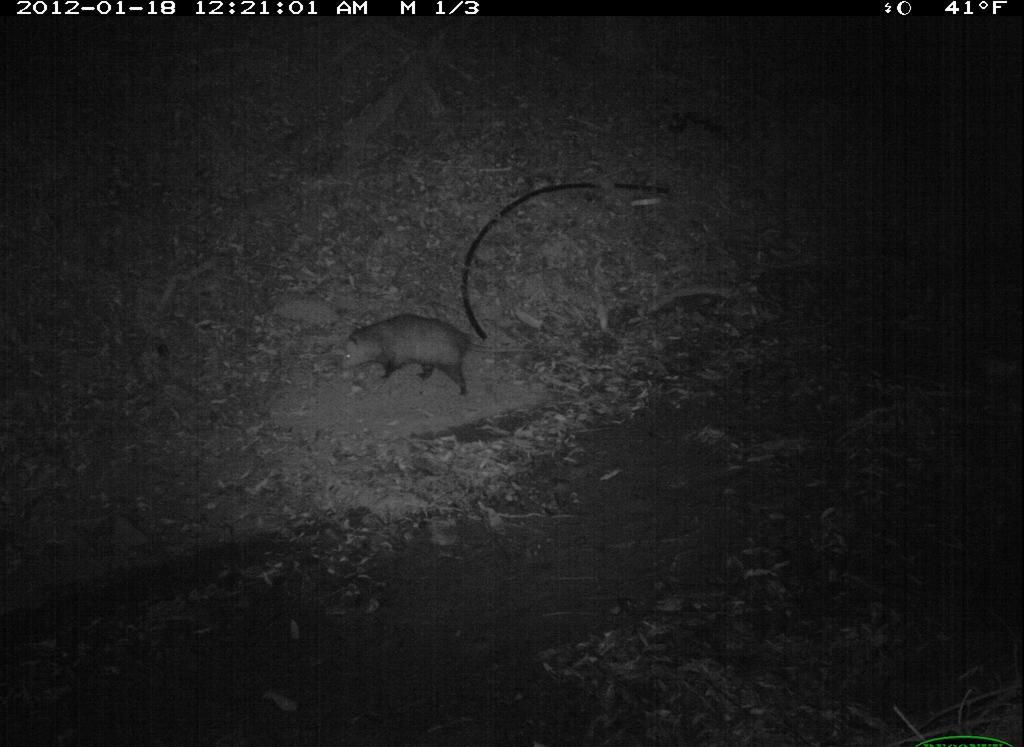opossum: (335, 310, 547, 401)
